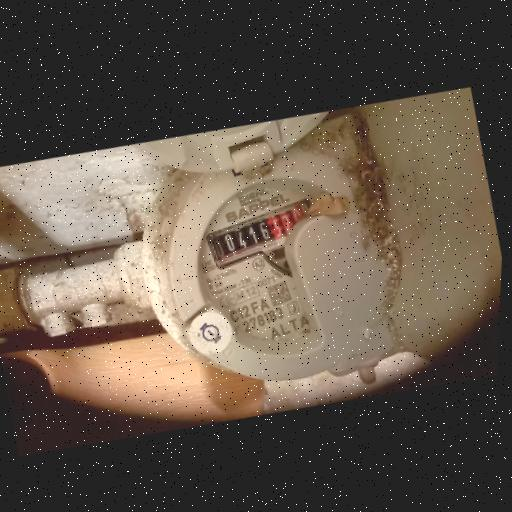0: (209, 232, 230, 259), (220, 228, 241, 255)
1: (244, 221, 262, 246)
4: (232, 225, 253, 251)
5: (267, 212, 286, 239)
6: (253, 216, 274, 242)
7: (278, 209, 297, 236)
8: (288, 204, 305, 224)
border_water_meter_number: (202, 193, 322, 275)
